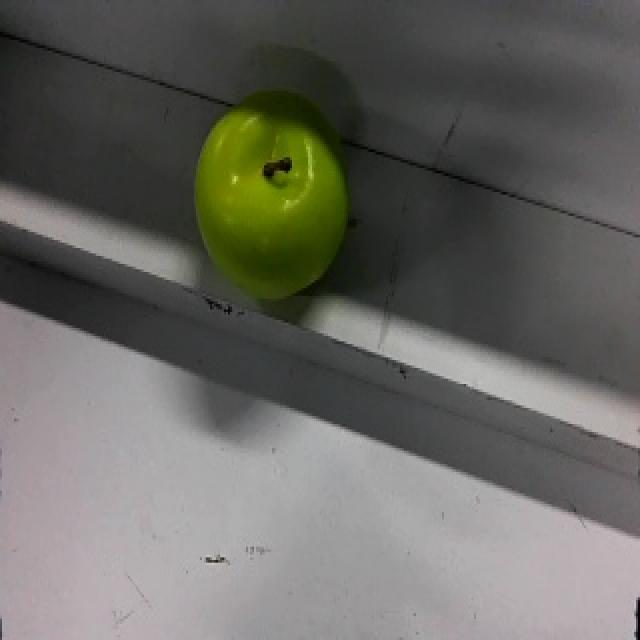apple: (193, 86, 353, 326)
